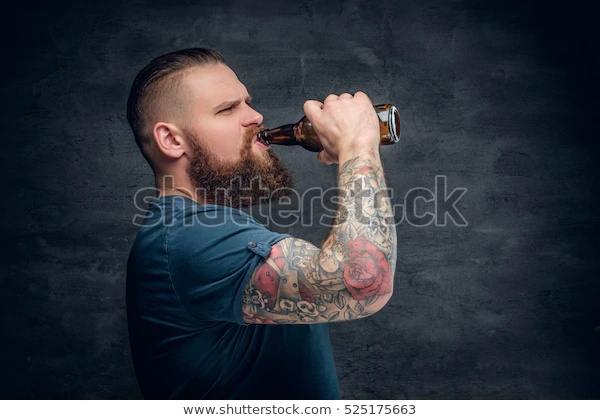beerBottle: (261, 105, 413, 148)
